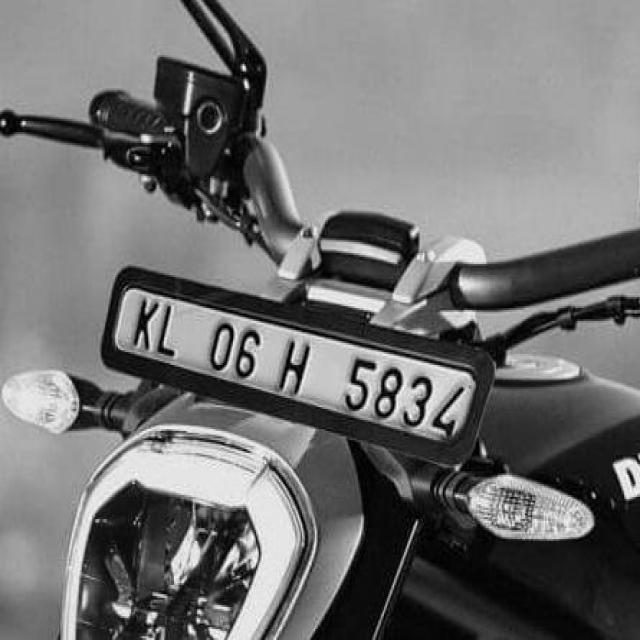bike: (8, 5, 640, 640)
license-plate: (108, 255, 503, 475)
